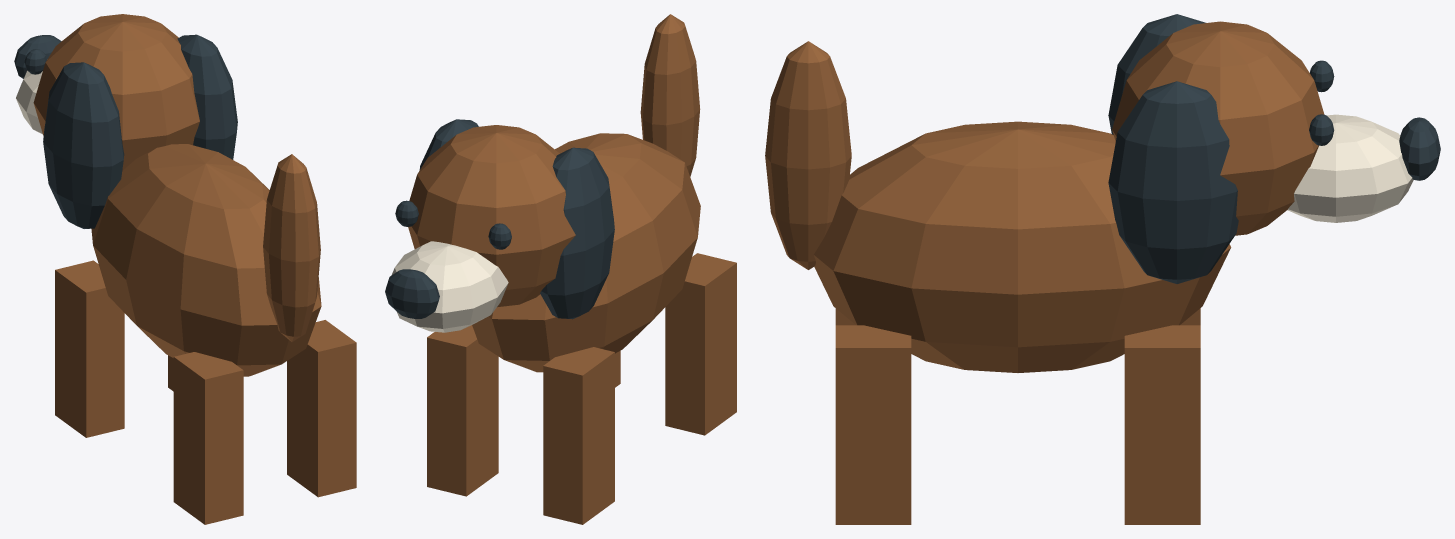
File: pet_dog.glb
3 renders of one model, left to right at view 1: azimuth 30°, elevation 25°; view 2: azimuth 150°, elevation 25°; view 3: azimuth 270°, elevation 25°, orthographic. The views are drawn at different scales.
Parts seen in each view (by area): view 1: pet_dog; view 2: pet_dog; view 3: pet_dog.
Part boxes in pixels (left/top/right/bottom): pet_dog: left=14, top=14, right=356, bottom=524; pet_dog: left=385, top=14, right=736, bottom=524; pet_dog: left=765, top=14, right=1440, bottom=524.
Bounding box in the file's own units: 0.34 × 0.685 × 0.935.
